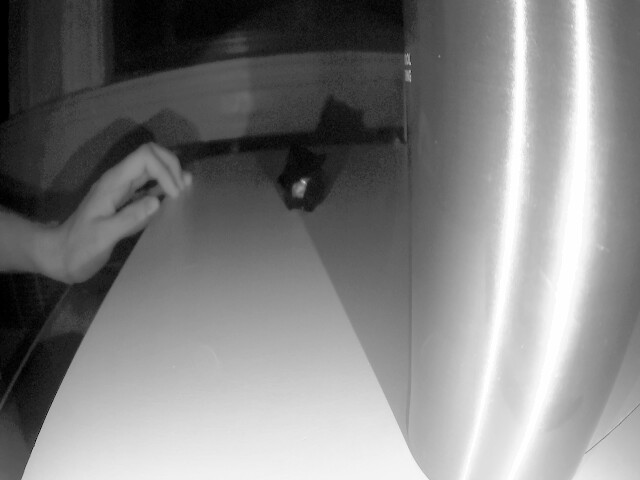silver: (268, 149, 327, 217)
